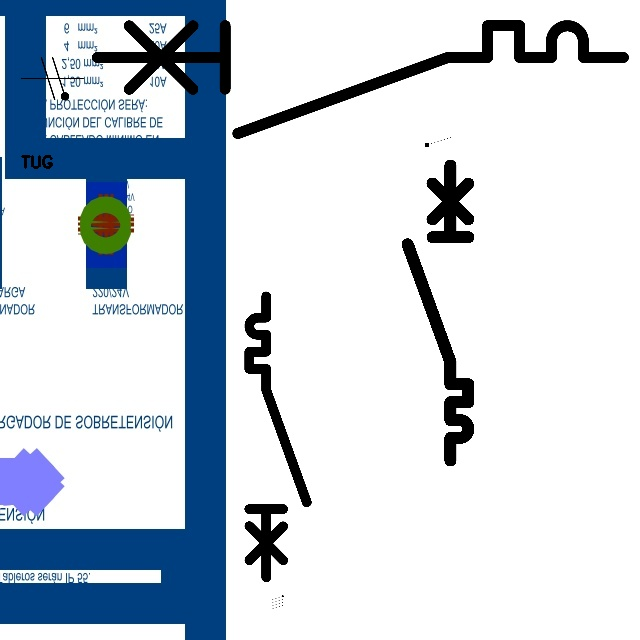interruptor_termomagnetico: (83, 12, 637, 147), (400, 158, 476, 468), (242, 289, 314, 585)
